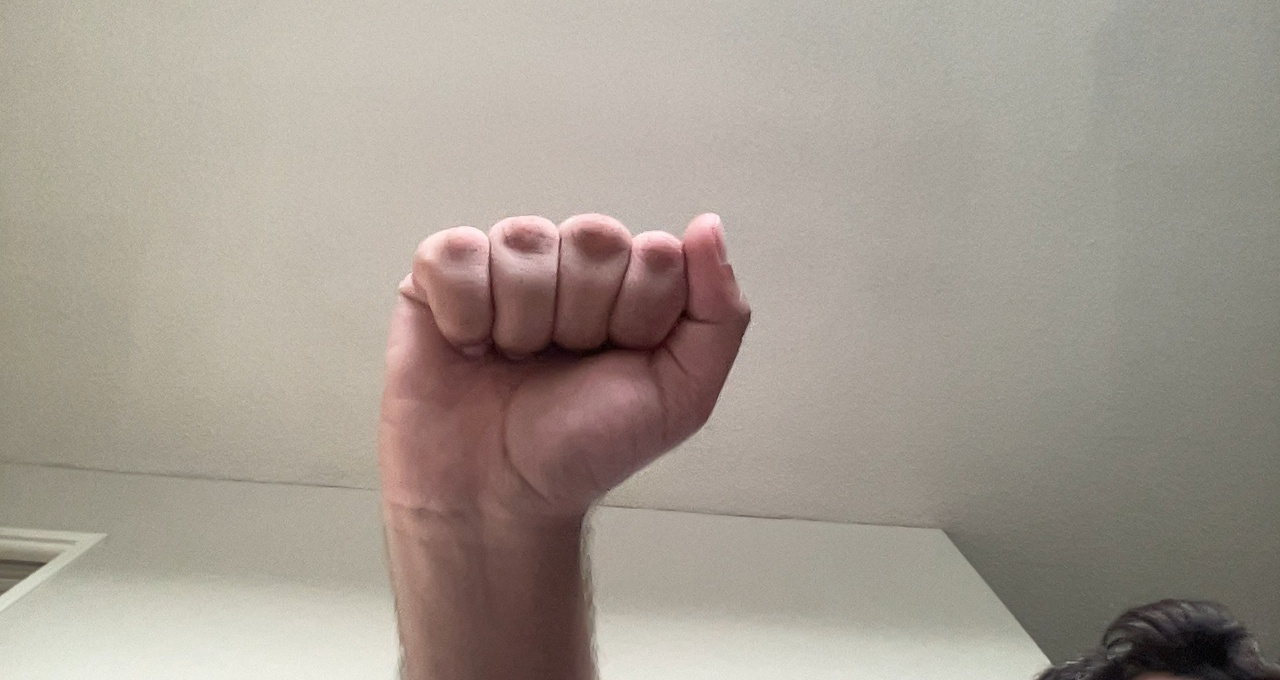closedfist: (367, 205, 754, 560)
